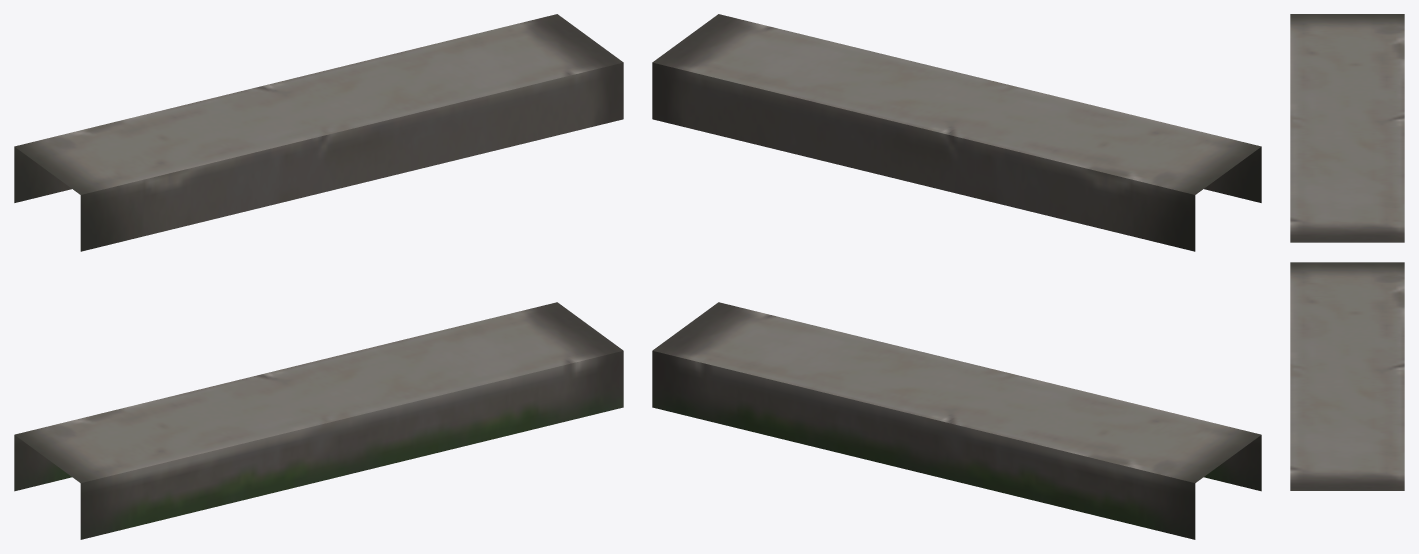
The model's file is scene_luoliante_shilangan02.FBX.
3 views of the same model, side by side, from view 1: azimuth 30°, elevation 25°; view 2: azimuth 150°, elevation 25°; view 3: azimuth 270°, elevation 25° (orthographic). The views are drawn at different scales.
Visible parts, largest first — view 1: scene_luoliante_shilangan02; view 2: scene_luoliante_shilangan02; view 3: scene_luoliante_shilangan02.
Boxes of the visible parts, box(x1,y1,x2,y2) form: scene_luoliante_shilangan02: box(14, 14, 623, 539); scene_luoliante_shilangan02: box(652, 14, 1261, 539); scene_luoliante_shilangan02: box(1290, 14, 1404, 490).
Bounding box in the file's own units: 138 × 83.9 × 29.25.
